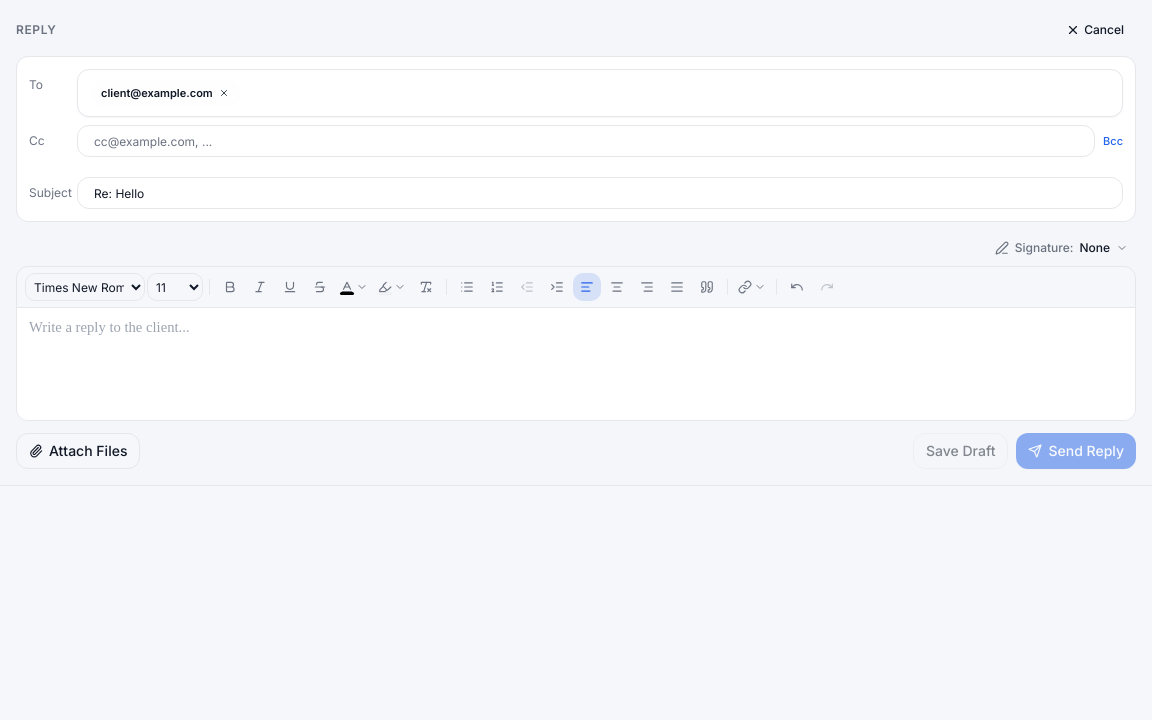
it: ReplyComposer — ticketed (local files, uploaded at Send) › existing Attach Files toggle still reveals the uploader
Check: the text "drag files here" is not shown
Step 1. Click the button "Attach Files" → (78, 451), box x1=16 y1=433 x2=140 y2=469
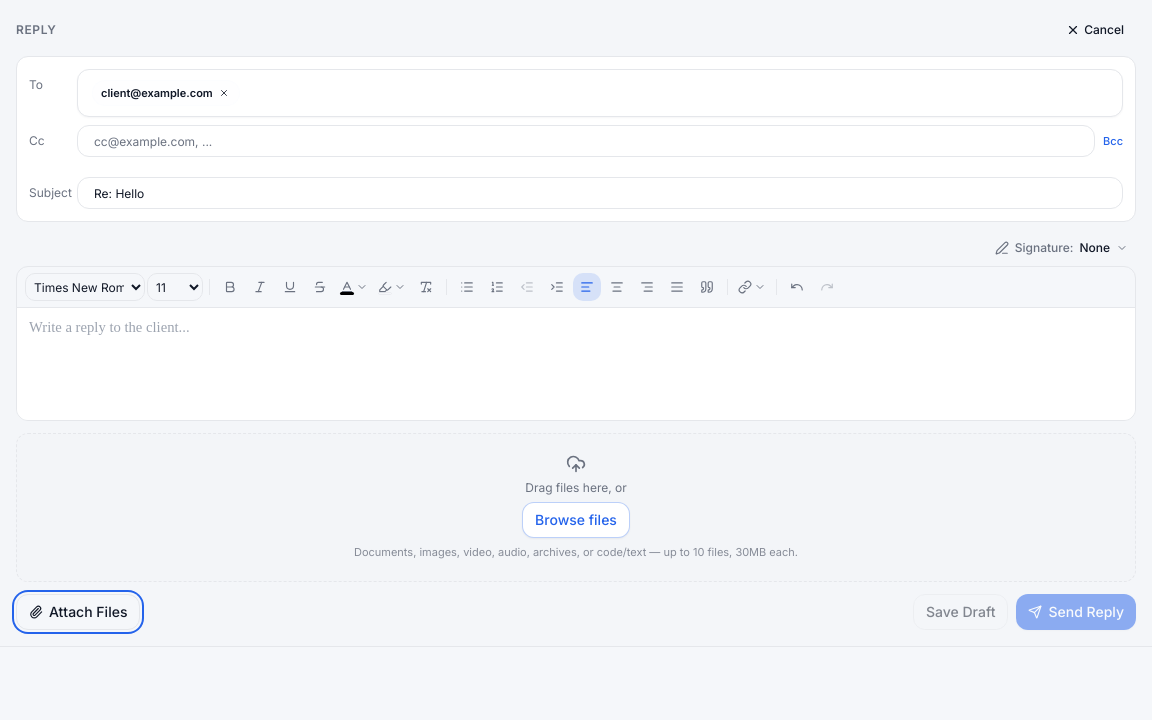
Check: the text "Drag files here, or" is shown, box x1=525 y1=480 x2=627 y2=496
